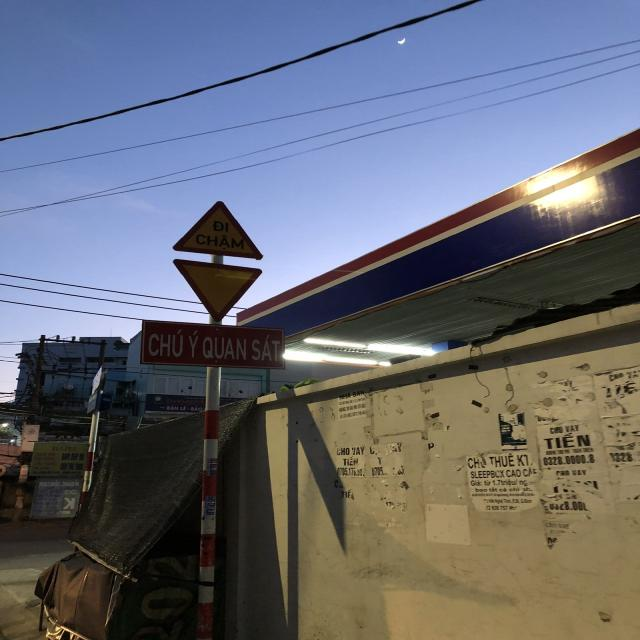Bien bao di cham: (164, 192, 266, 260)
Bien bao giao nhau voi duong uu tien: (160, 253, 272, 321)
